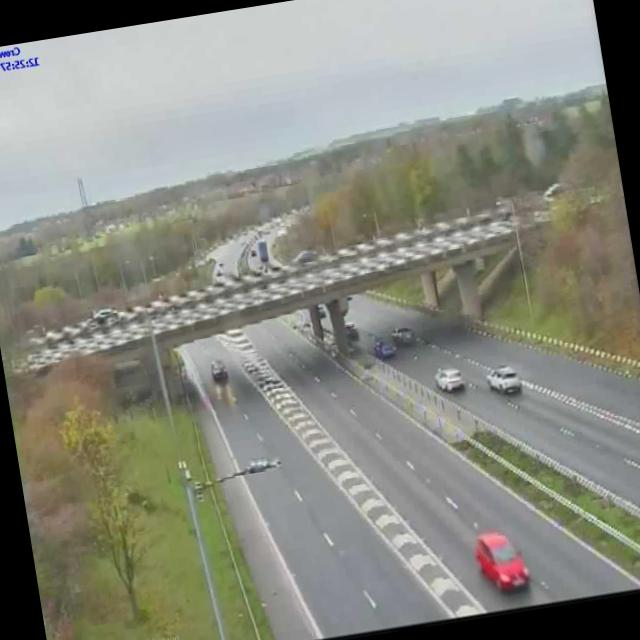foliage: (434, 98, 640, 355), (22, 359, 141, 618), (61, 403, 143, 619), (8, 287, 126, 337), (334, 154, 399, 239)
